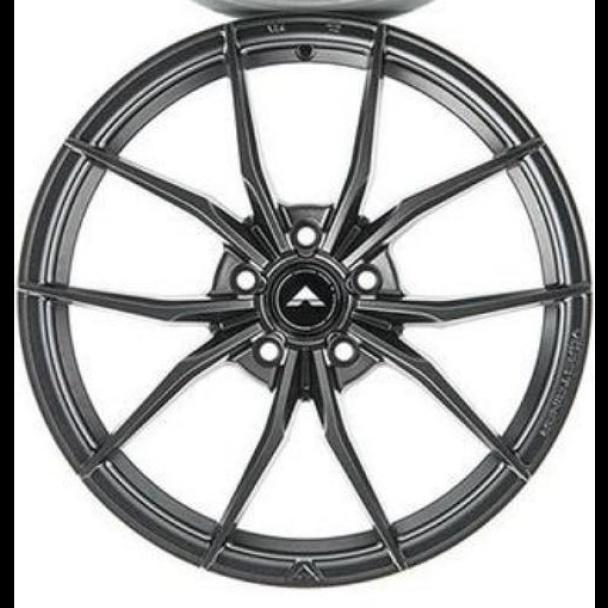hole: (228, 261, 260, 296), (290, 219, 321, 252), (251, 334, 281, 367), (349, 265, 380, 296), (328, 336, 359, 366)
